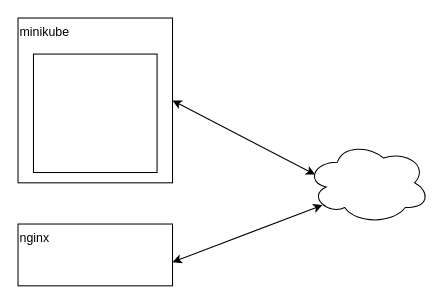
Some shapes in this 448 by 304 pixel diagram are drawn without their labels. The shapes that lost their labels are listed below. From the top down, each one's centre as x and y in pixels, then its label:
At point (94, 113): "ingress".
At point (367, 182): "network".
